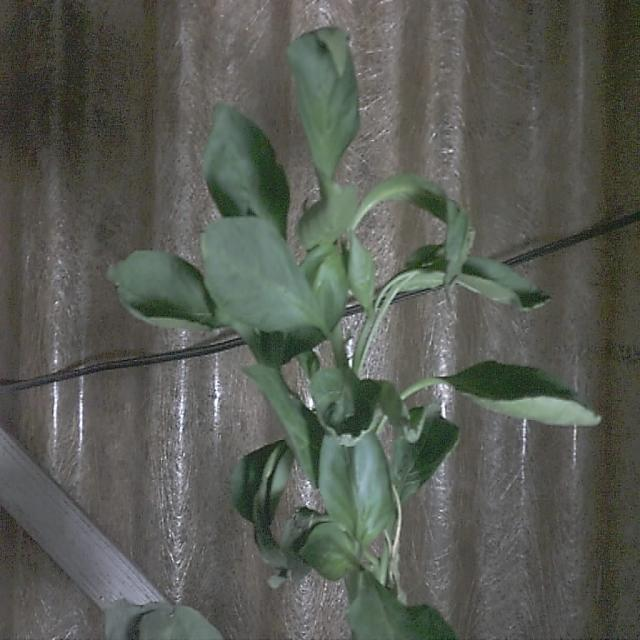Leaf: (200, 212, 319, 334), (286, 25, 360, 189), (446, 358, 603, 429), (316, 413, 399, 543)
